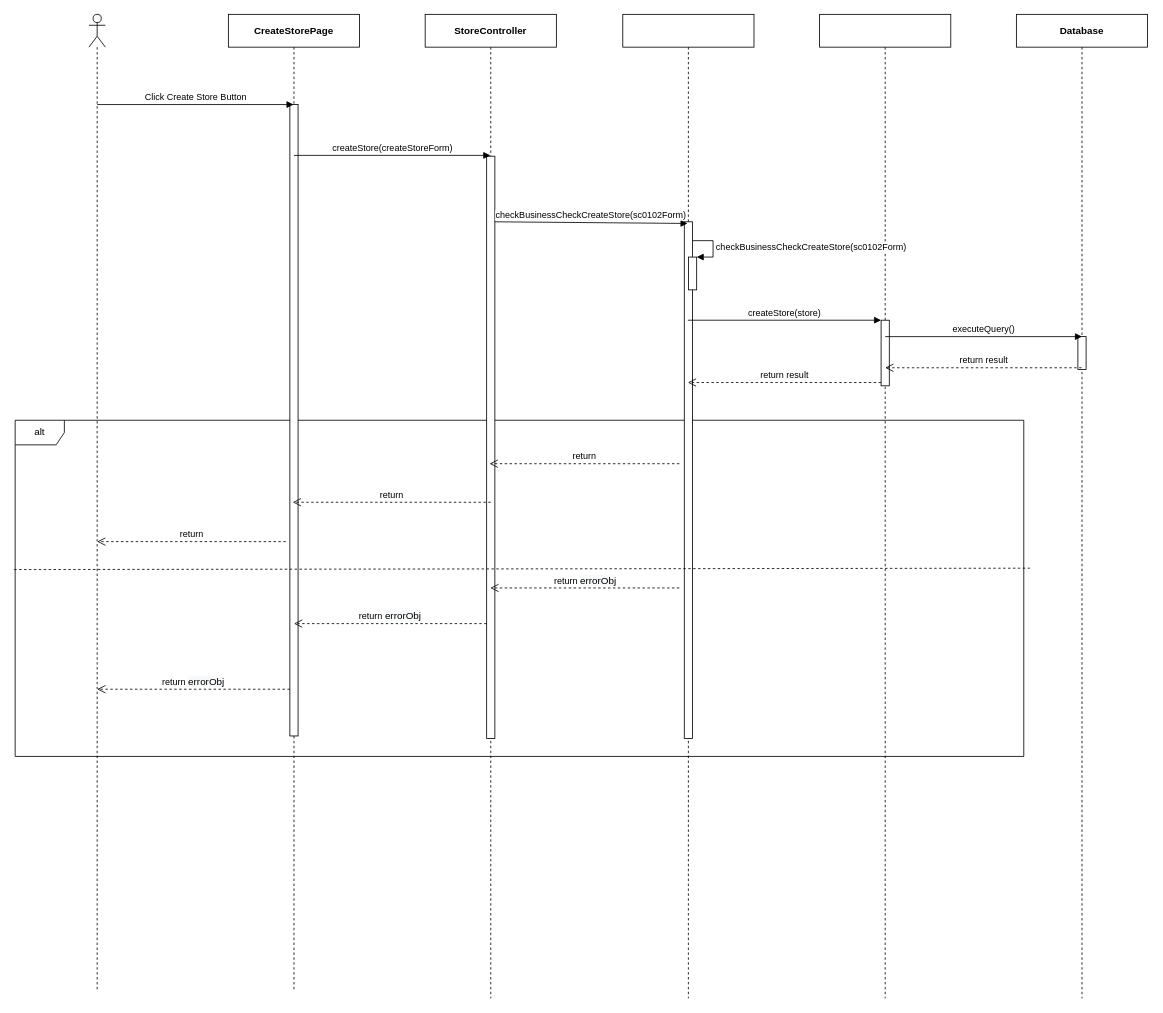
The diagram is 1163 pixels wide and 1013 high, and some of its shapes have lost their labels. Each missing label, with the box of its shape:
StoreDao: (819, 14, 951, 998)
StoreService: (622, 14, 754, 998)
